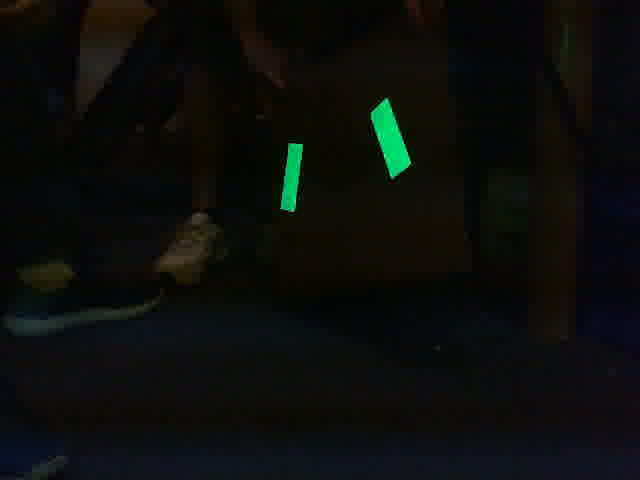target: (280, 97, 412, 212)
